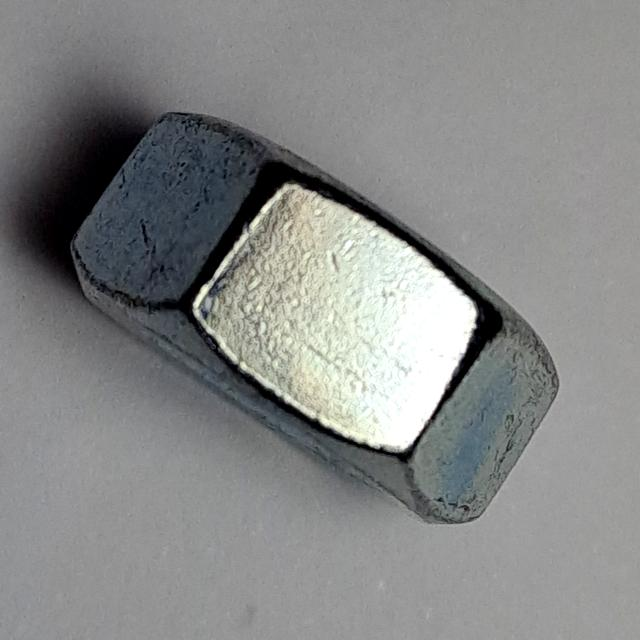Side_Excellent: (66, 96, 572, 534)
